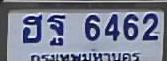2: (143, 13, 158, 40)
4: (104, 14, 118, 41)
6: (85, 14, 100, 40), (124, 14, 138, 40)
A16: (46, 14, 66, 46)
A44: (22, 13, 43, 44)
